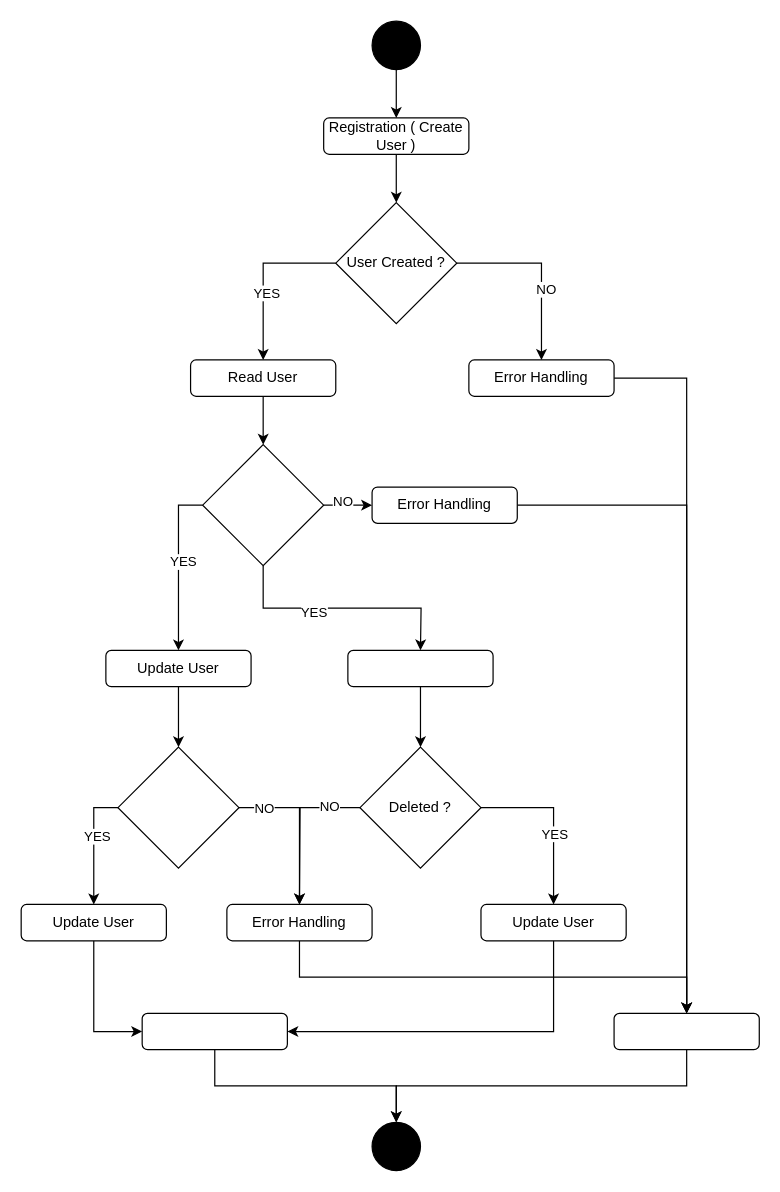
Some shapes in this 780 by 1192 pixel diagram are drawn without their labels. The centre of each missing label's shape, as x and y in pixels:
"Data Fetched ?" belongs at point (262, 504).
"Delete User" belongs at point (420, 668).
"Show Error Message to User" belongs at point (686, 1031).
"Show Success Message to User" belongs at point (214, 1031).
"Updated ?" belongs at point (178, 807).
